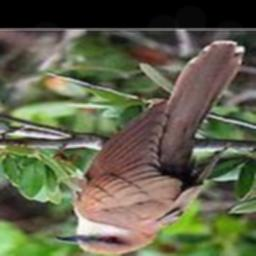Cuckoo: (55, 41, 244, 255)
